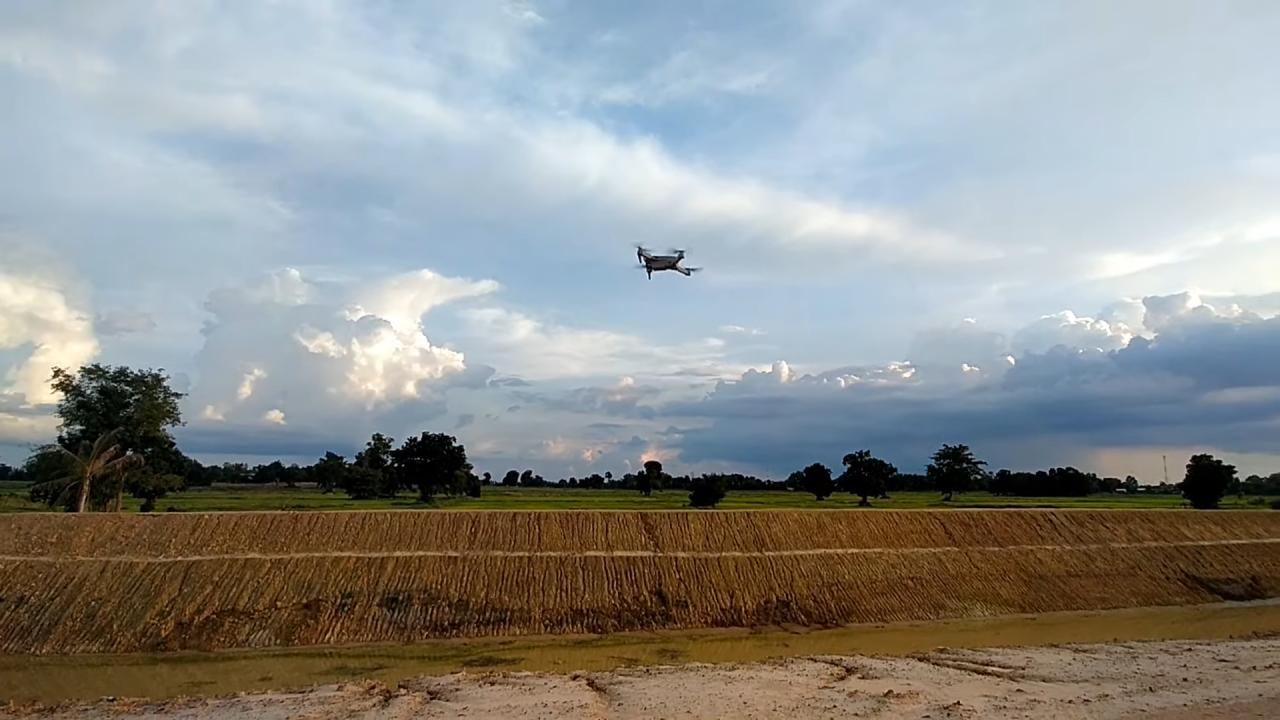Drone: (618, 234, 708, 289)
